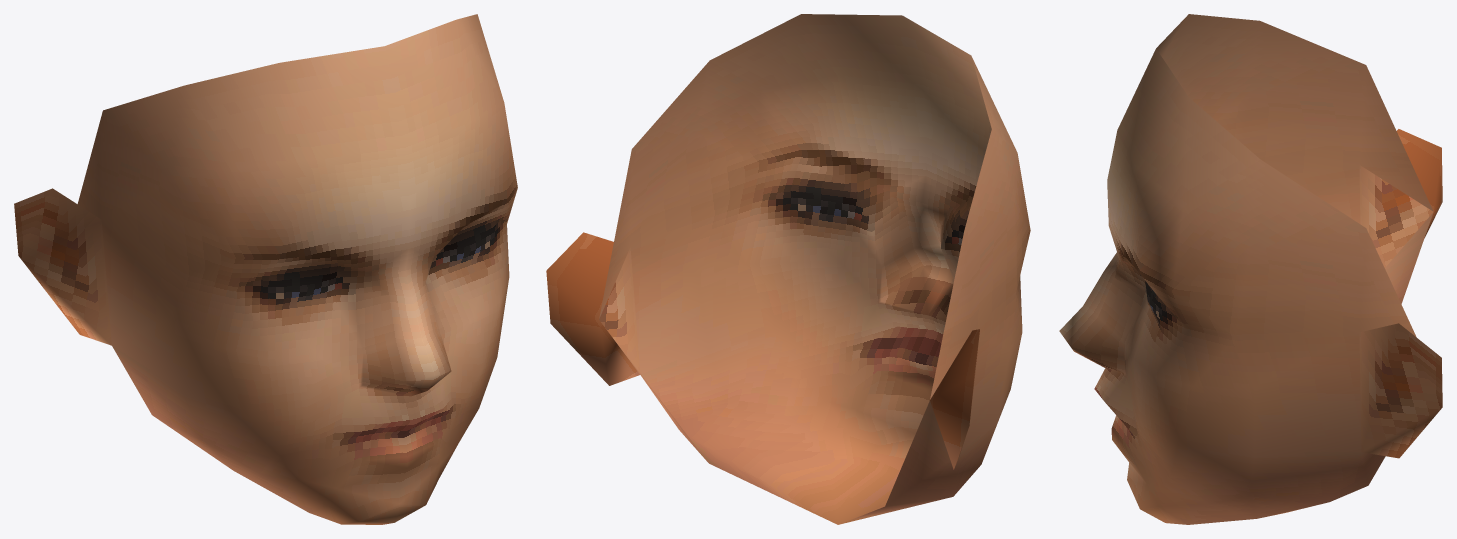
The picture shows the model from 3 angles, left to right: view 1: azimuth 30°, elevation 25°; view 2: azimuth 150°, elevation 25°; view 3: azimuth 270°, elevation 25°; orthographic projection. The views are drawn at different scales.
Parts seen in each view (by area): view 1: mesh00; view 2: mesh00; view 3: mesh00.
Part boxes in pixels (box(x1,y1,x2,y2)): mesh00: box(14, 14, 517, 524); mesh00: box(546, 14, 1030, 524); mesh00: box(1059, 14, 1442, 524).
Size of the model in its own units: 19.4 by 20.01 by 14.97.
